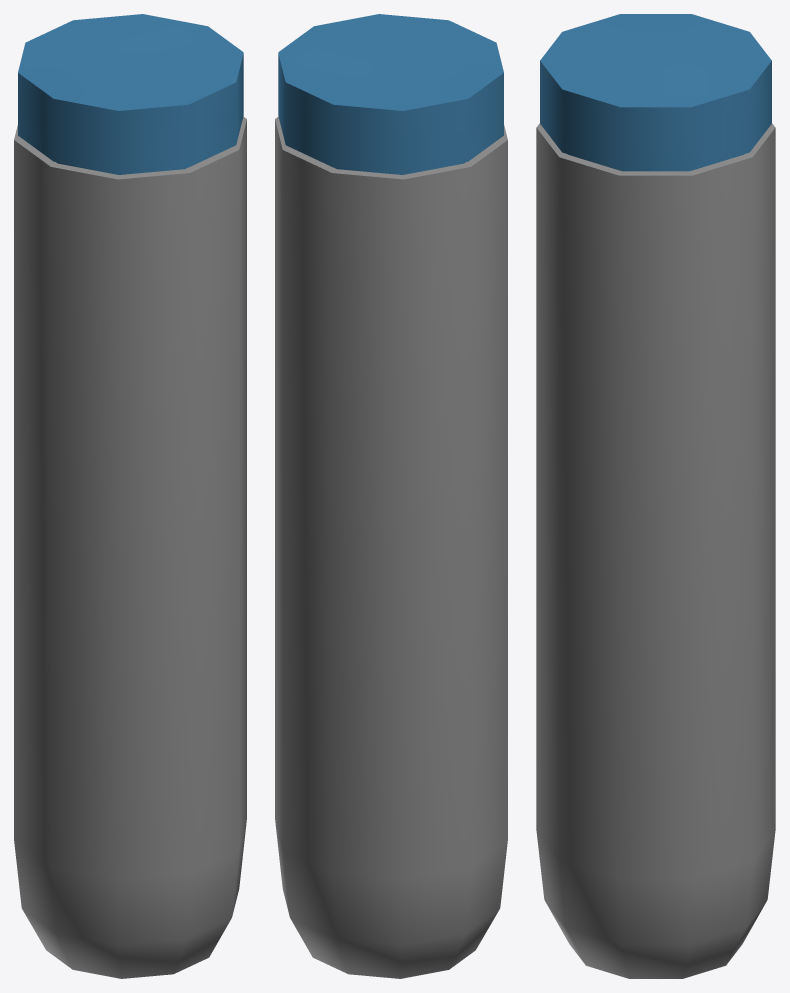
Rendered from SM_衍生管.FBX.
3 renders of one model, left to right at view 1: azimuth 30°, elevation 25°; view 2: azimuth 150°, elevation 25°; view 3: azimuth 270°, elevation 25°, orthographic.
Parts seen in each view (by area): view 1: SM_衍生管_瓶体, SM_衍生管_盖子; view 2: SM_衍生管_瓶体, SM_衍生管_盖子; view 3: SM_衍生管_瓶体, SM_衍生管_盖子.
Part boxes in pixels (left/top/right/bottom): SM_衍生管_瓶体: left=14, top=116, right=246, bottom=978; SM_衍生管_盖子: left=18, top=14, right=243, bottom=174; SM_衍生管_瓶体: left=275, top=116, right=507, bottom=978; SM_衍生管_盖子: left=278, top=14, right=503, bottom=174; SM_衍生管_瓶体: left=536, top=123, right=775, bottom=978; SM_衍生管_盖子: left=540, top=14, right=771, bottom=171.
Size of the model in its own units: 12.52 by 54.64 by 13.16.
